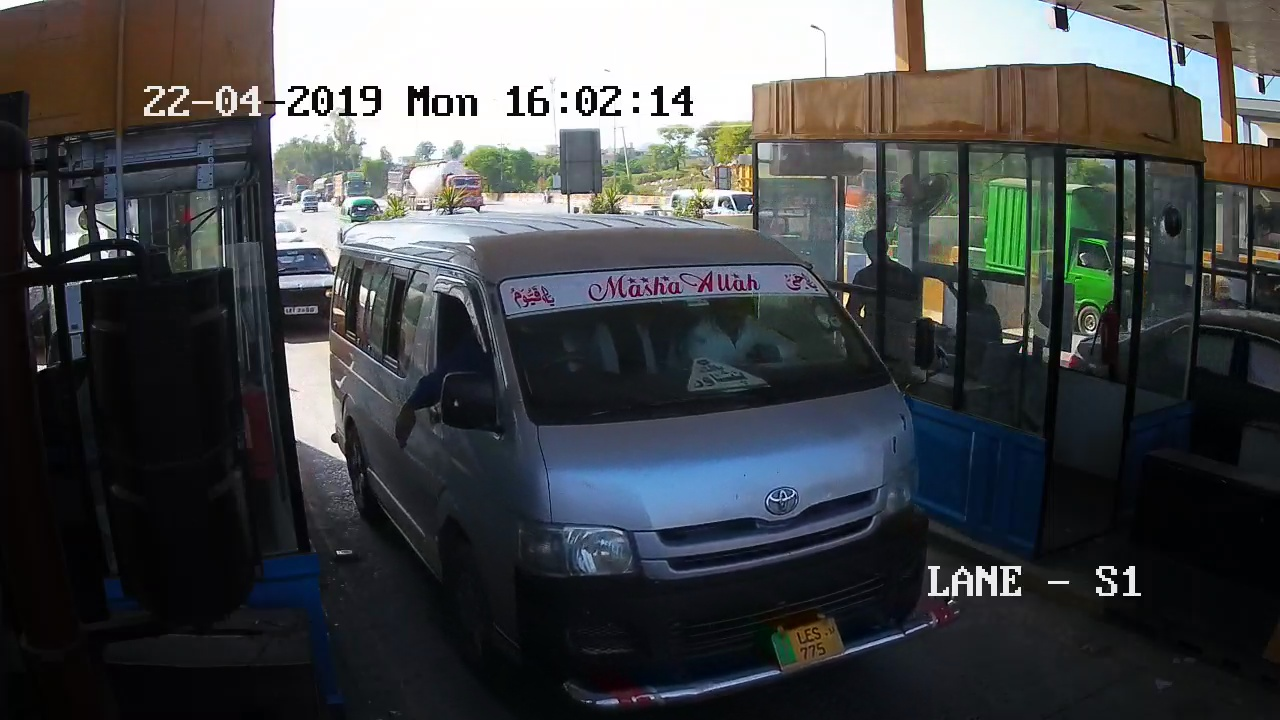Number Plate (Car): (773, 618, 846, 668)
